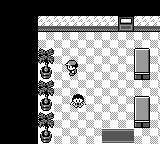main: (65, 59, 79, 75)
no-caminable: (0, 1, 159, 143), (38, 47, 54, 143), (38, 16, 118, 32), (134, 47, 150, 80), (134, 95, 150, 128), (134, 16, 160, 32)
npc: (71, 94, 85, 108)
puerta: (99, 127, 136, 143), (118, 17, 134, 31)
